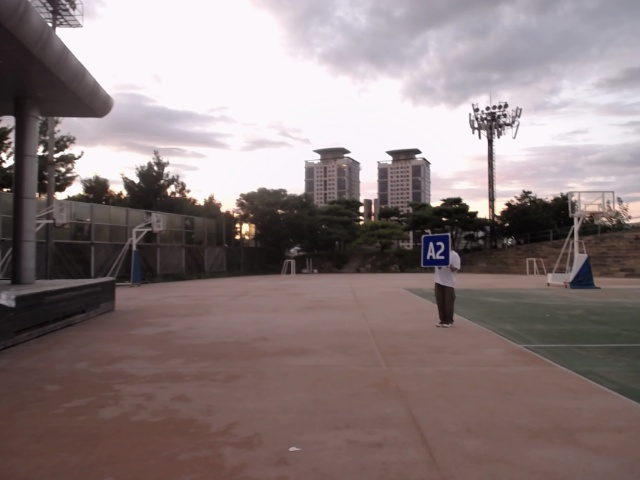delivery_a2: (422, 233, 451, 267)
